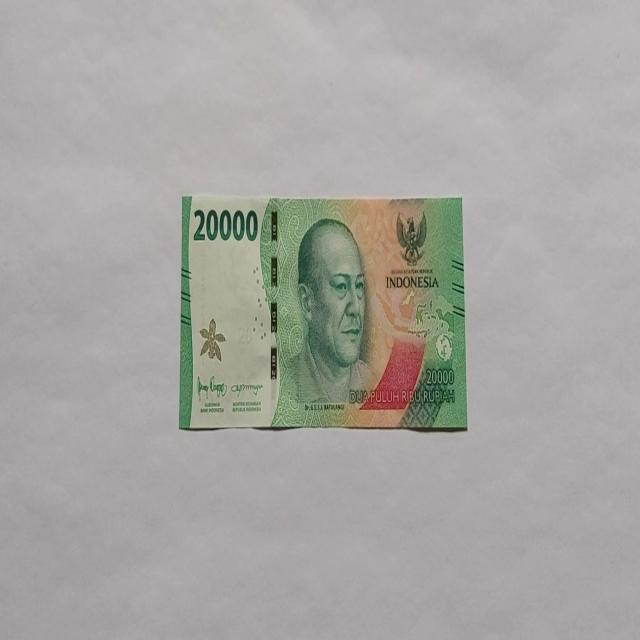dua puluh ribu rupiah: (178, 192, 468, 432)
